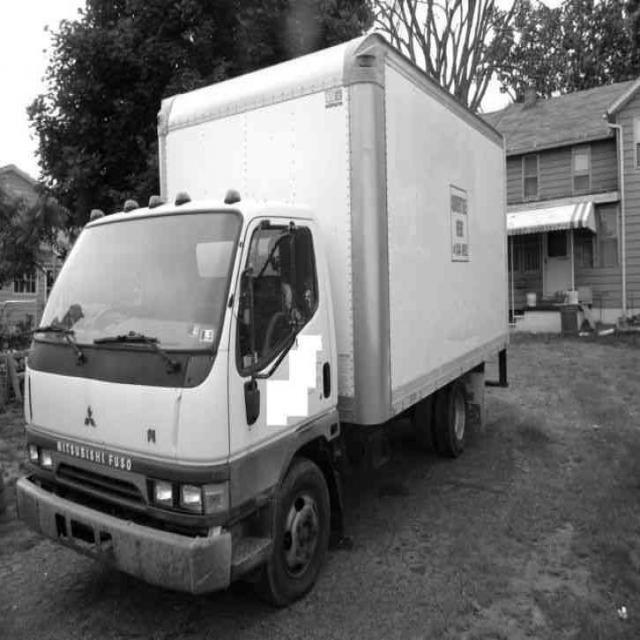truck: (3, 180, 364, 606)
